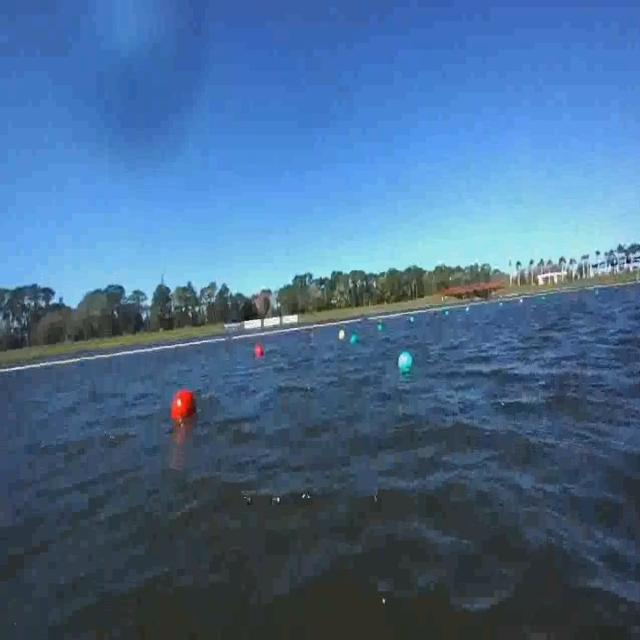green-buoy: (400, 351, 414, 373), (351, 335, 358, 346)
red-buoy: (172, 391, 198, 423), (254, 343, 264, 359)
yellow-buoy: (339, 328, 347, 340)
